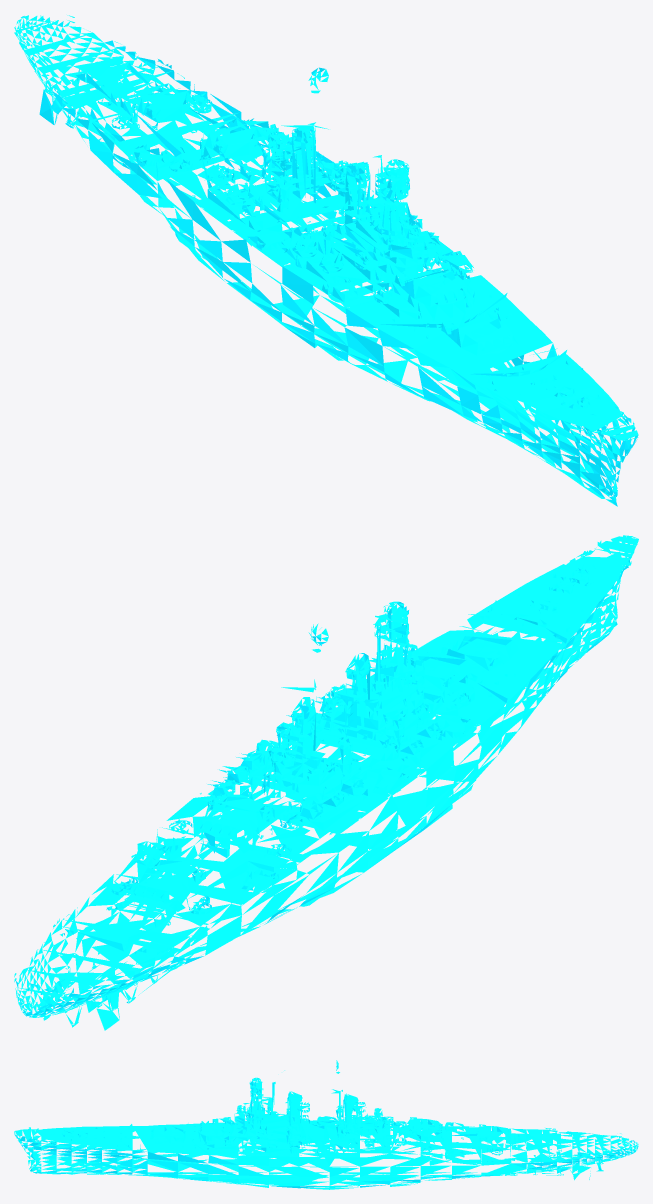
Rendered from Sicilia.glb.
3 views of the same model, one above another, from view 1: azimuth 30°, elevation 25°; view 2: azimuth 150°, elevation 25°; view 3: azimuth 270°, elevation 25° (orthographic). The views are drawn at different scales.
Size of the model in its own units: 2.71 by 3.78 by 18.79.
